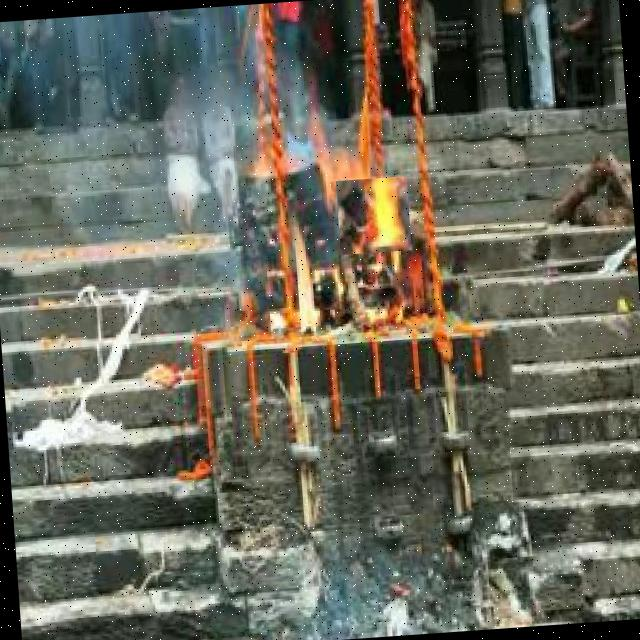fire: (336, 176, 412, 254)
